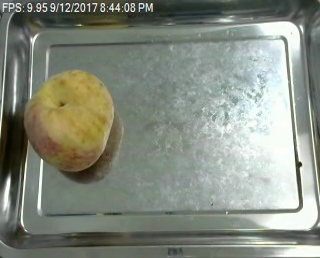Peach: (23, 67, 115, 172)
